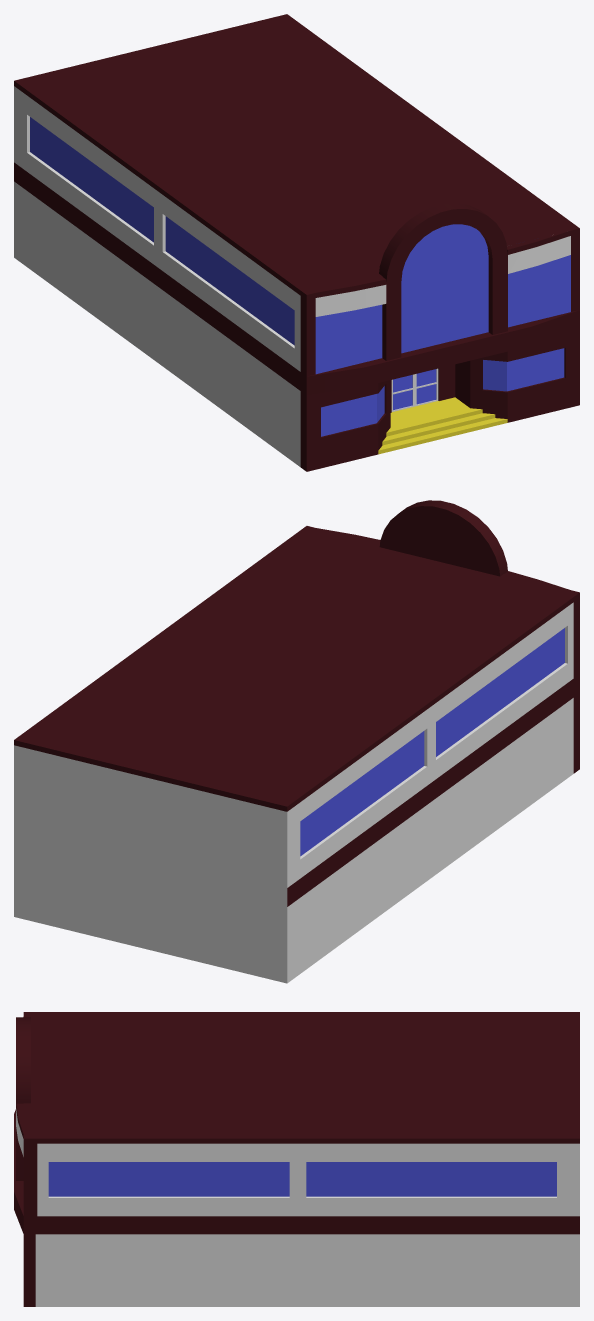
The model's file is building34.fbx.
3 views of the same model, one above another, from view 1: azimuth 30°, elevation 25°; view 2: azimuth 150°, elevation 25°; view 3: azimuth 270°, elevation 25° (orthographic). The views are drawn at different scales.
Parts seen in each view (by area): view 1: building23; view 2: building23; view 3: building23.
Boxes of the visible parts, x1,y1,x2,y2 form: building23: (14,14,579,471); building23: (14,500,579,983); building23: (14,1012,579,1306).
Bounding box in the file's own units: 1499 × 1210 × 2830.
